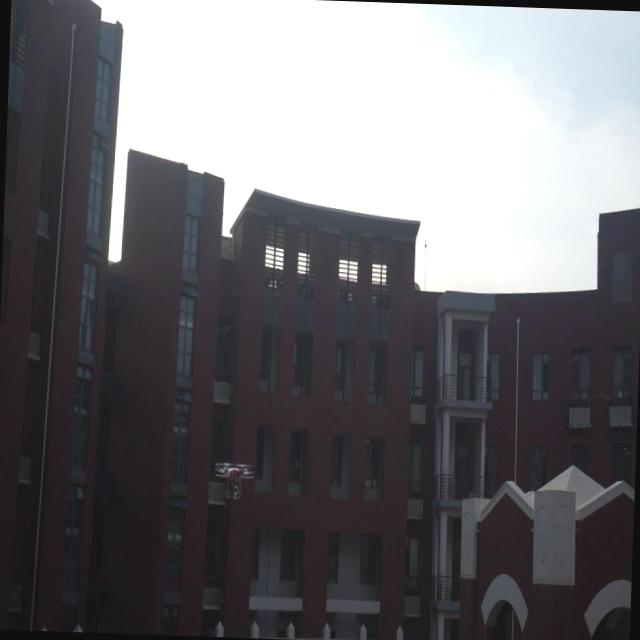drone: (210, 454, 259, 509)
